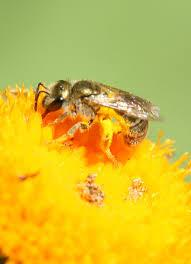Seladonia: (32, 71, 157, 155)
